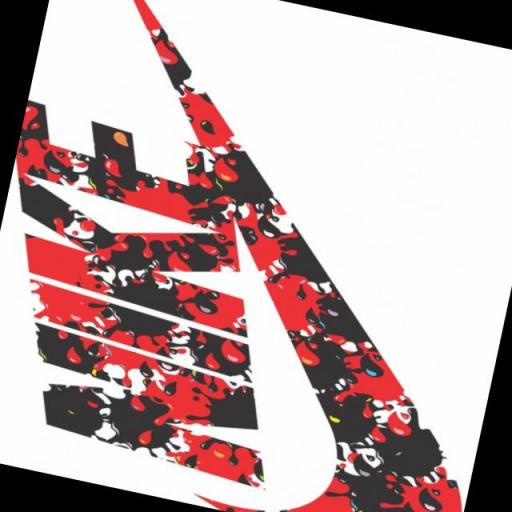Nike: (0, 91, 339, 488), (179, 133, 512, 512)
